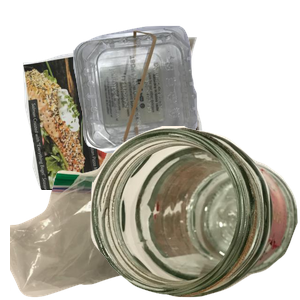glass: (90, 126, 300, 300)
paper: (20, 34, 221, 214)
plastic: (71, 23, 300, 169)
trash: (10, 134, 250, 300)
